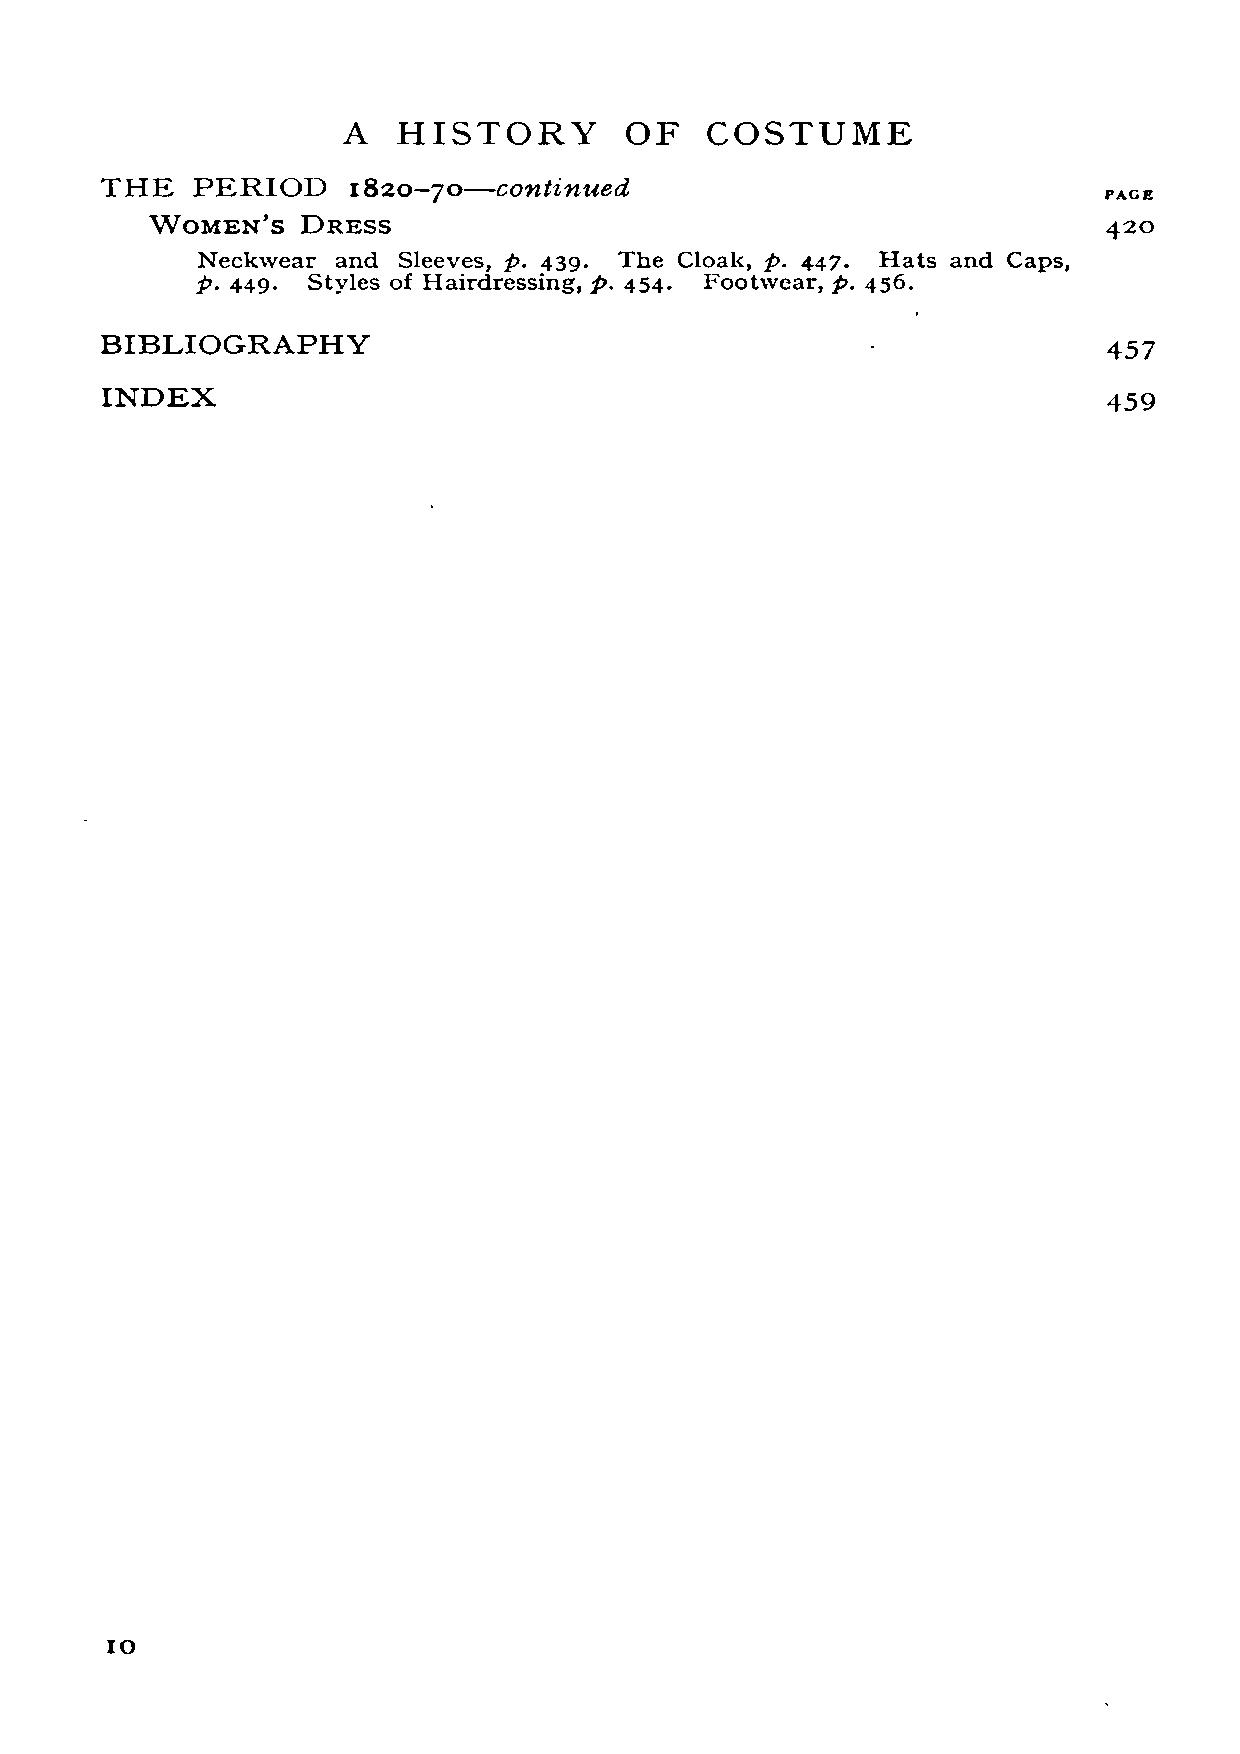TOC_chapter: (146, 205, 1078, 301), (93, 322, 376, 362), (89, 365, 225, 413)
TOC_pagenumber: (1095, 331, 1159, 369), (1088, 213, 1164, 243), (1100, 386, 1170, 415)
chapter: (338, 115, 919, 161)
content_pagenumber: (98, 1616, 136, 1664)
